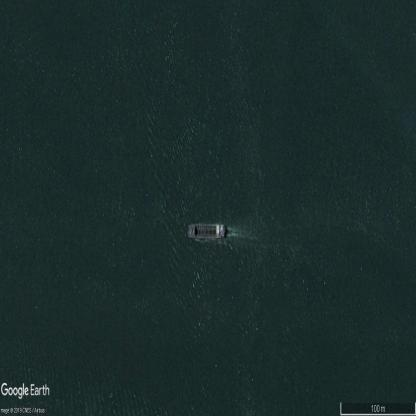ship: (186, 220, 226, 242)
